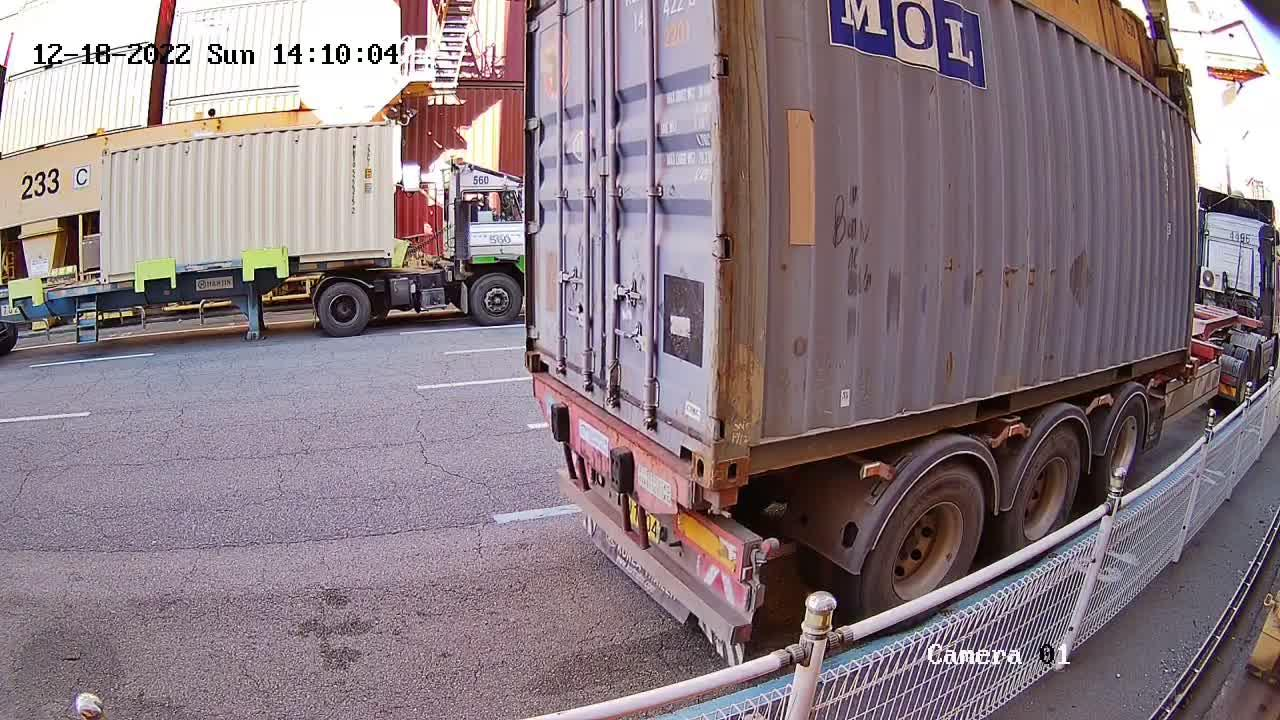Chassis: (532, 374, 718, 513)
Cone: (697, 486, 737, 521)
Hole_L: (716, 404, 788, 490), (523, 327, 555, 378)
Hole_R: (665, 385, 718, 488)
Tire: (868, 473, 983, 603), (1011, 438, 1082, 546), (1100, 399, 1147, 487)
